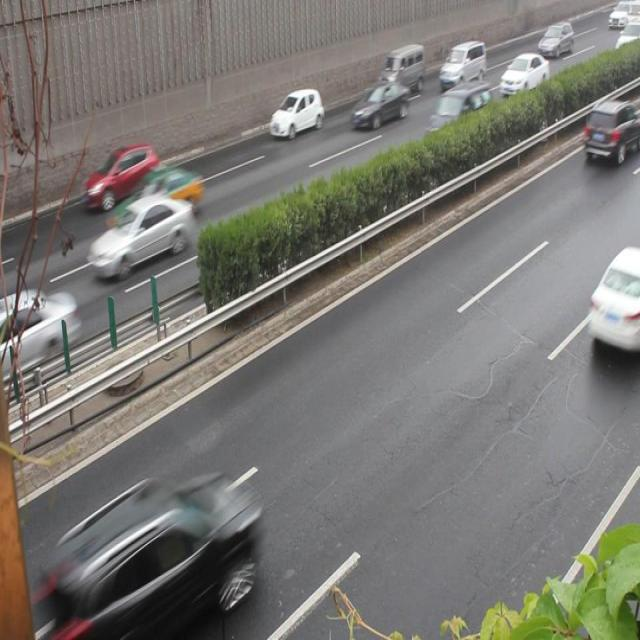car: (77, 479, 258, 640), (87, 194, 192, 281), (1, 288, 78, 380), (104, 168, 203, 239), (586, 247, 640, 352), (84, 140, 160, 210), (582, 97, 640, 167), (350, 81, 409, 129), (270, 86, 323, 138), (498, 52, 548, 98)
truck: (423, 80, 490, 145), (375, 43, 425, 94), (438, 40, 485, 88)
